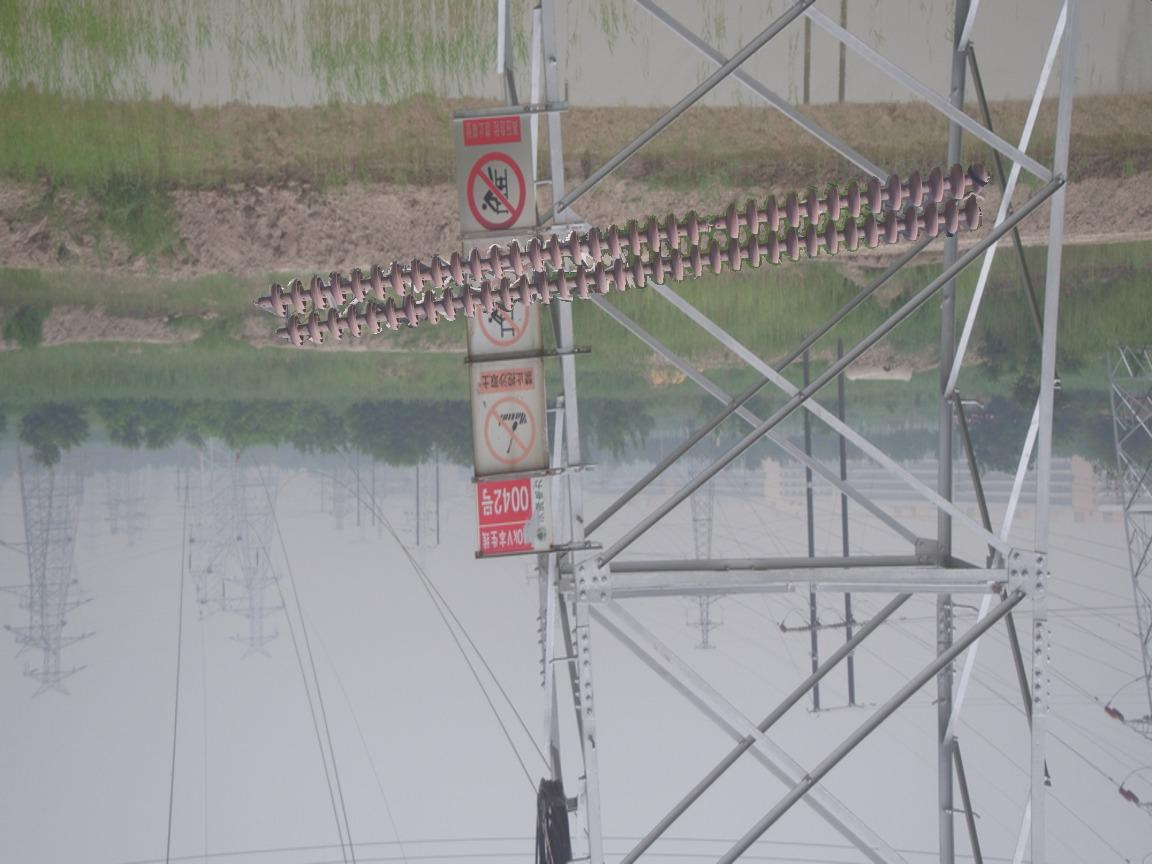insulator: (264, 158, 994, 351)
insulator_stringdrop: (684, 201, 745, 249)
